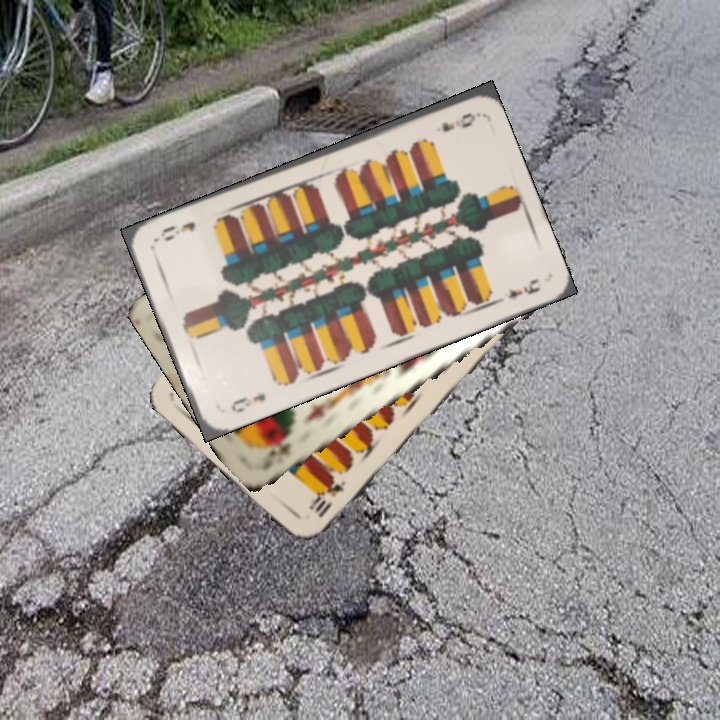E10: (304, 473, 349, 521)
E9: (226, 389, 268, 416), (437, 109, 478, 135)
SK: (261, 427, 298, 461)
